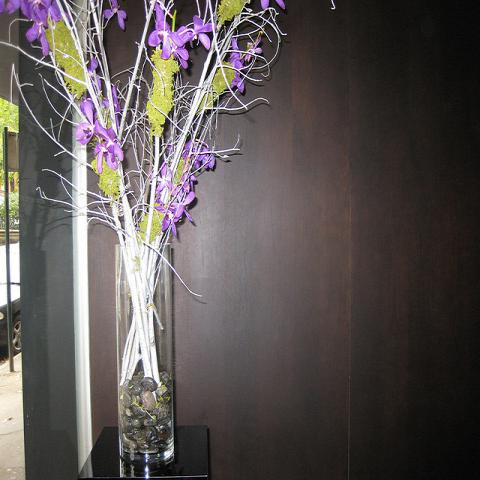car: (0, 241, 21, 364)
